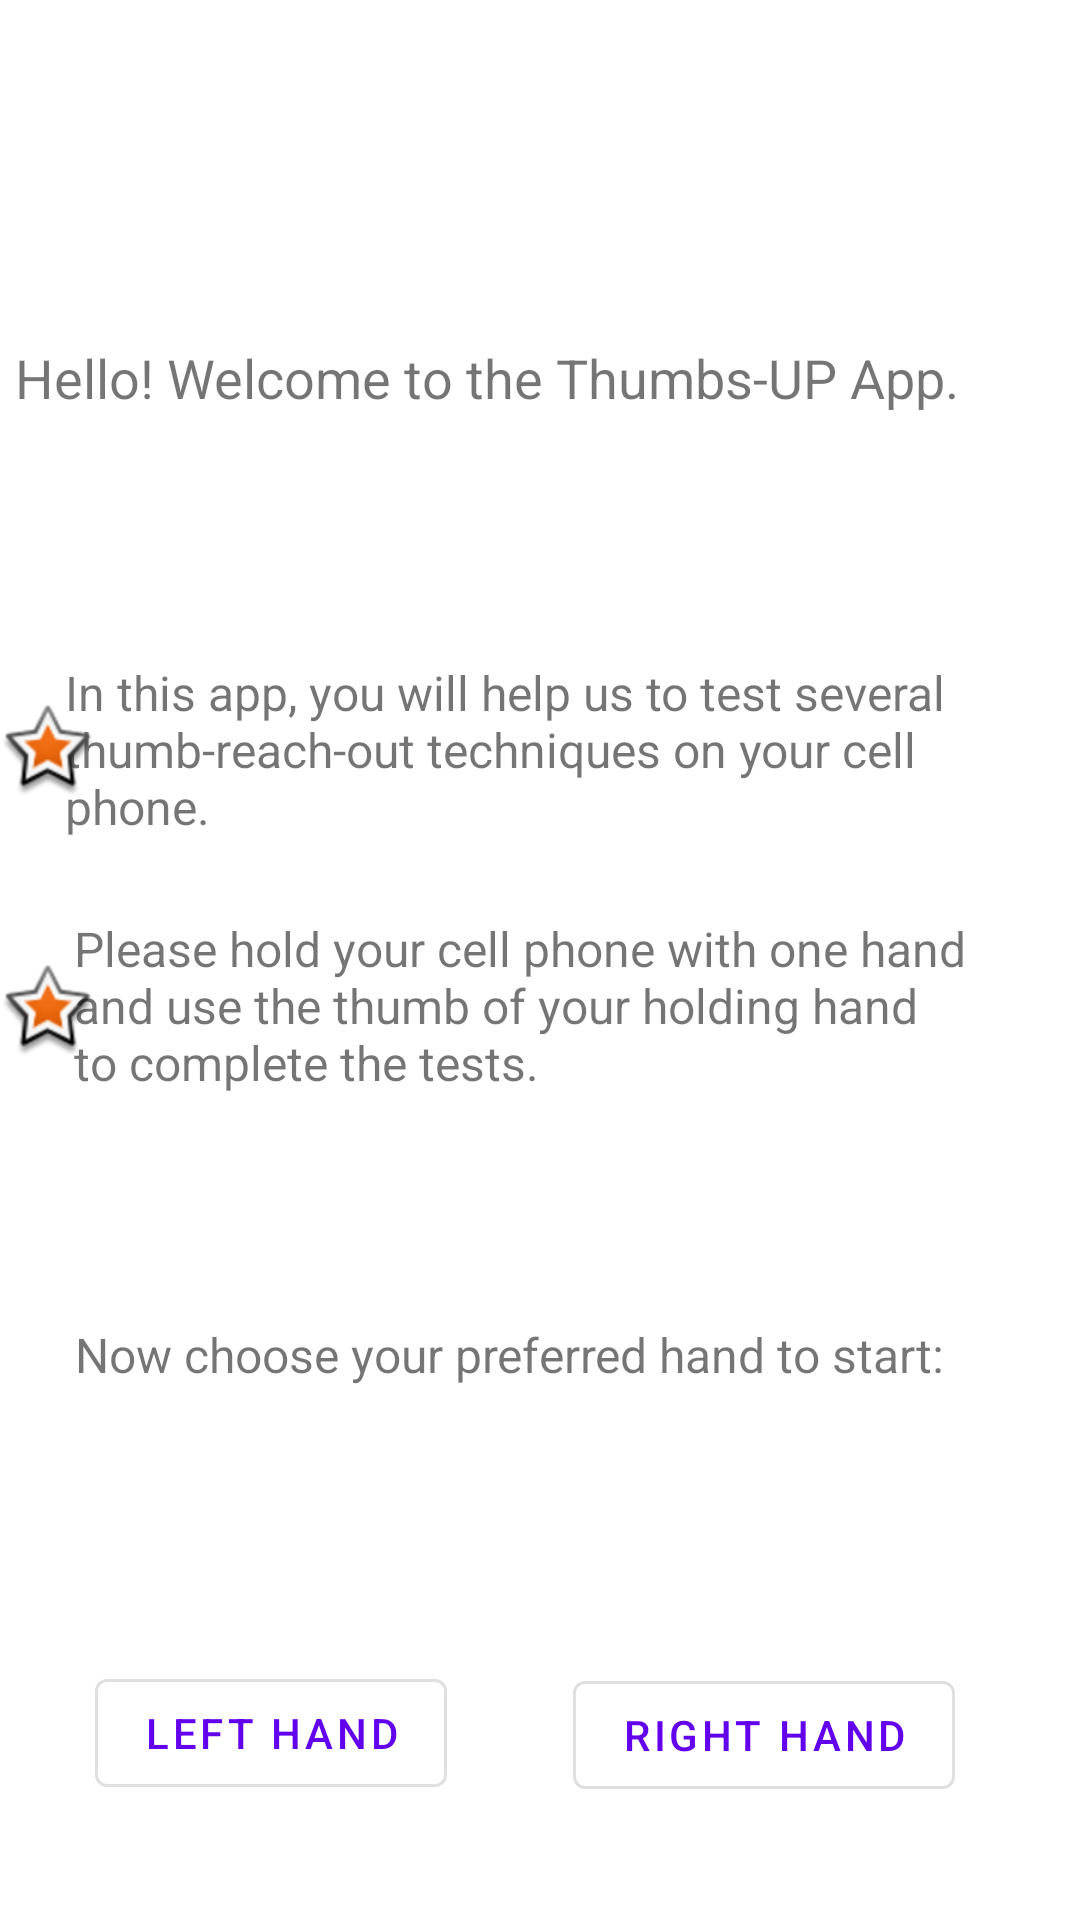

Point at icon controls on the screen. Image size 1080px×1920px, points as (x=x, y=y).
star on: (x=50, y=752), (x=50, y=1008)
